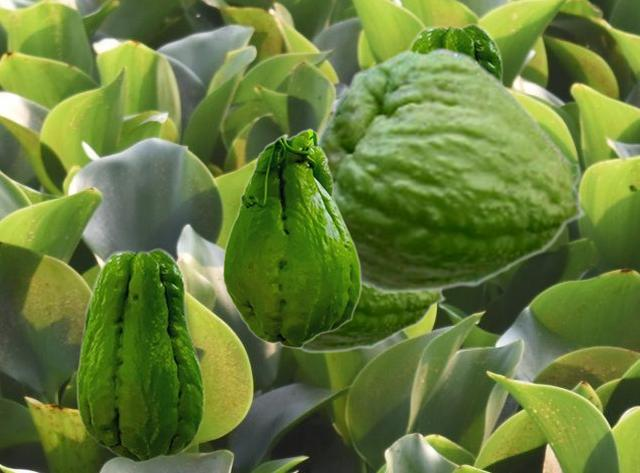sayote: (317, 46, 587, 294), (222, 128, 361, 348), (76, 247, 204, 462), (291, 286, 446, 353), (406, 22, 504, 80)
